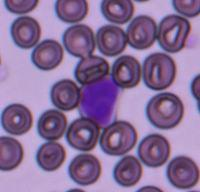L: (78, 78, 123, 128)
